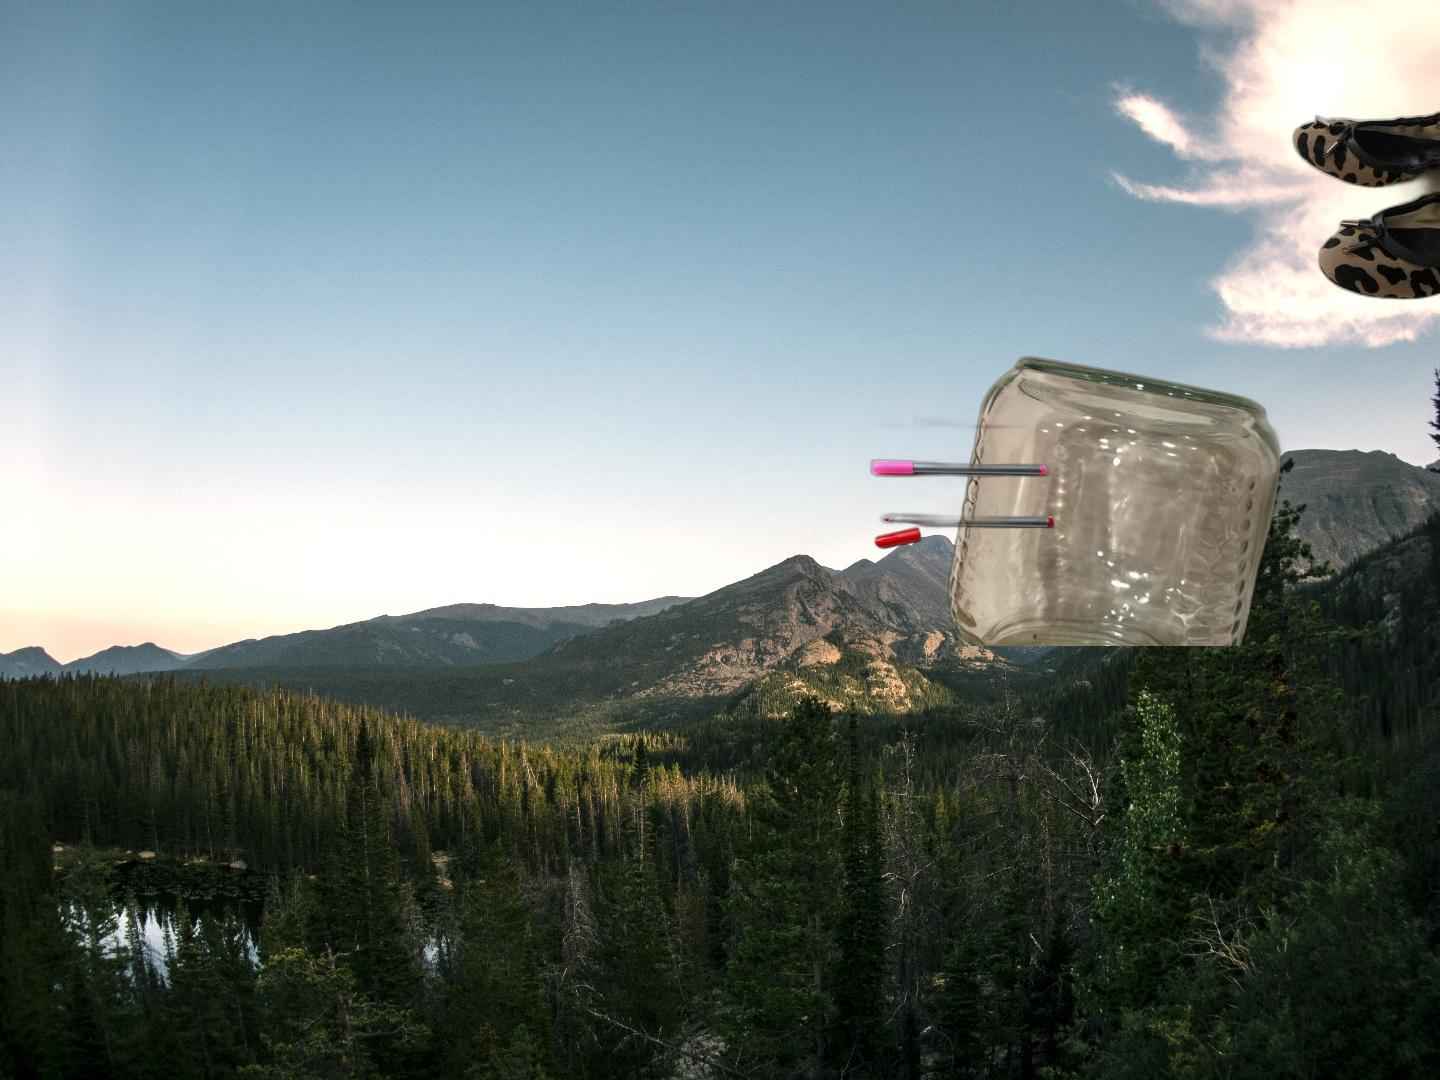glass: (945, 353, 1291, 646)
penholder: (866, 410, 1057, 551)
shoes: (1290, 92, 1440, 304)
